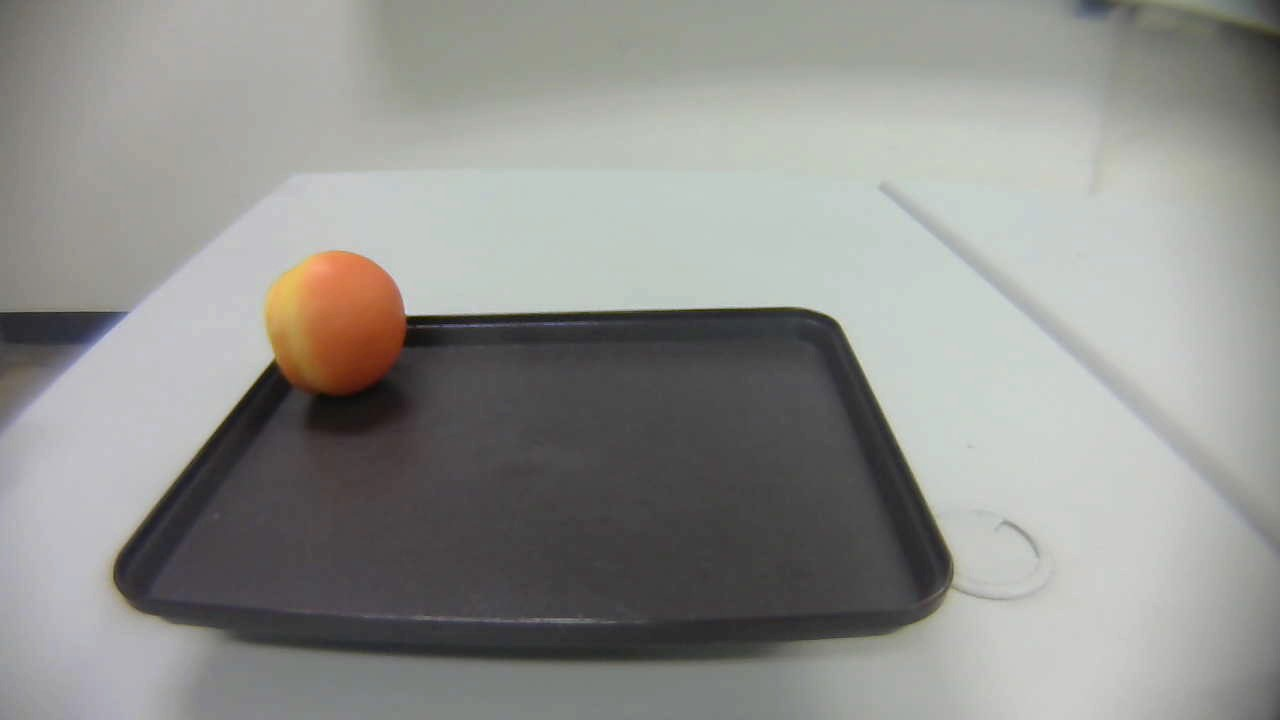bun: (264, 249, 408, 397)
